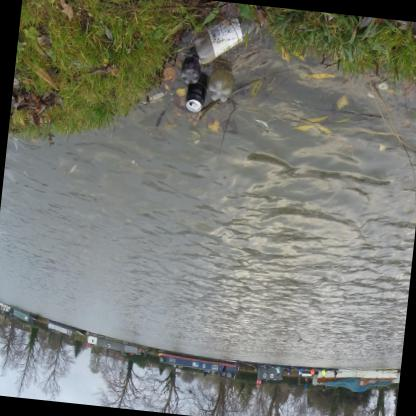Metal: (184, 82, 206, 111), (190, 102, 197, 108)
Plastic: (191, 14, 255, 63), (207, 68, 233, 101), (179, 54, 201, 83)
